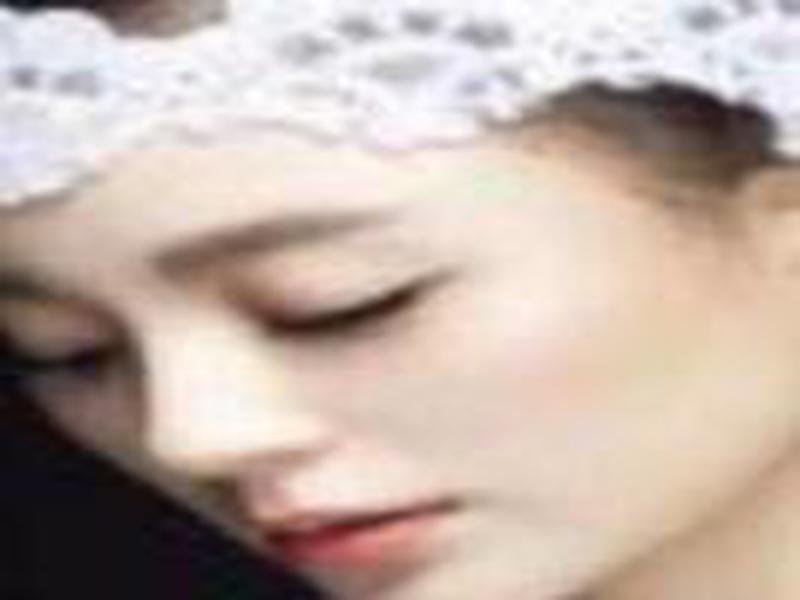without_mask: (4, 146, 789, 599)
